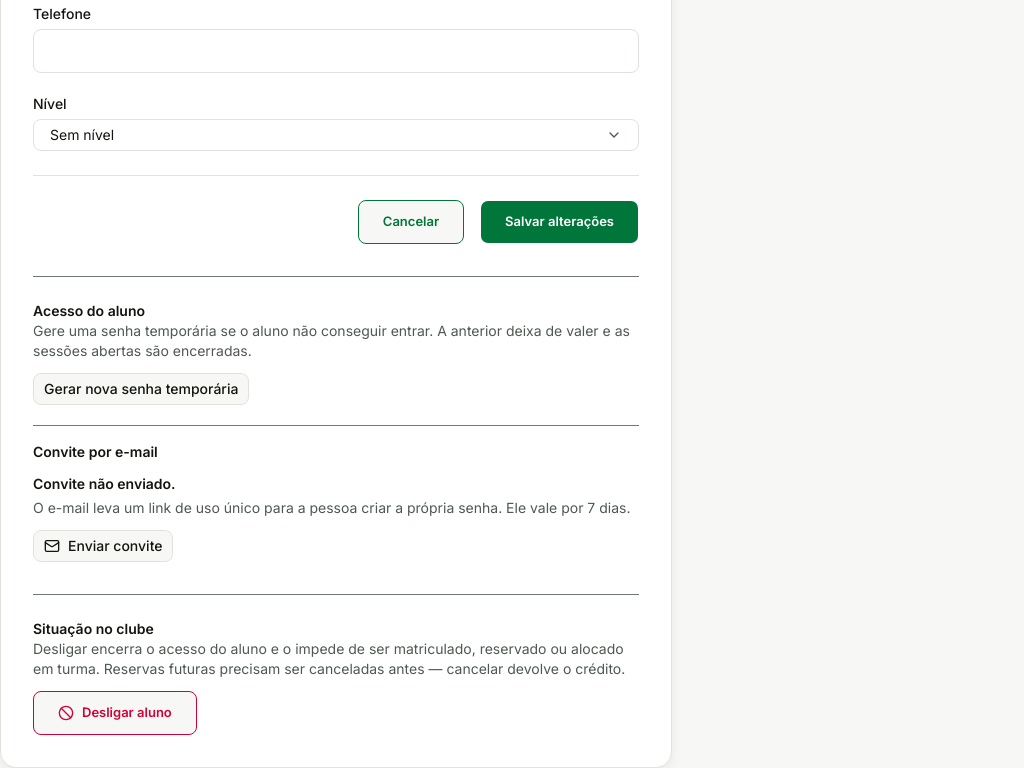
Test: DEF-027 — desligar e reativar o aluno › e o botão vira REATIVAR sem recarregar a página
This screenshot has width=1024, height=768.
(page scrolled)
Click the button "Desligar aluno" at (115,713), box top-left (33, 691), bottom-right (197, 735)
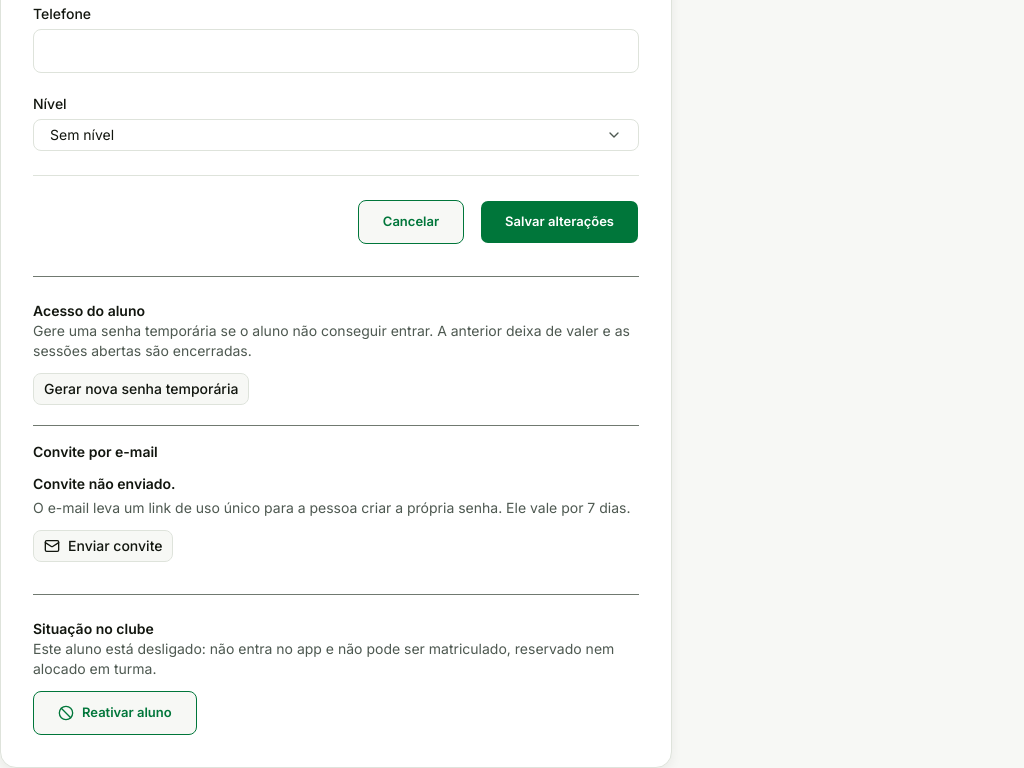
Expected: the button "Reativar aluno" is shown, top-left (33, 691), bottom-right (197, 735)
